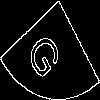G: (25, 24, 69, 83)
